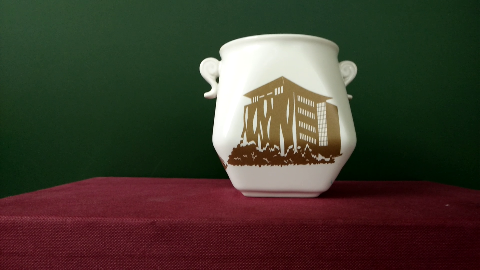library: (232, 83, 335, 161)
